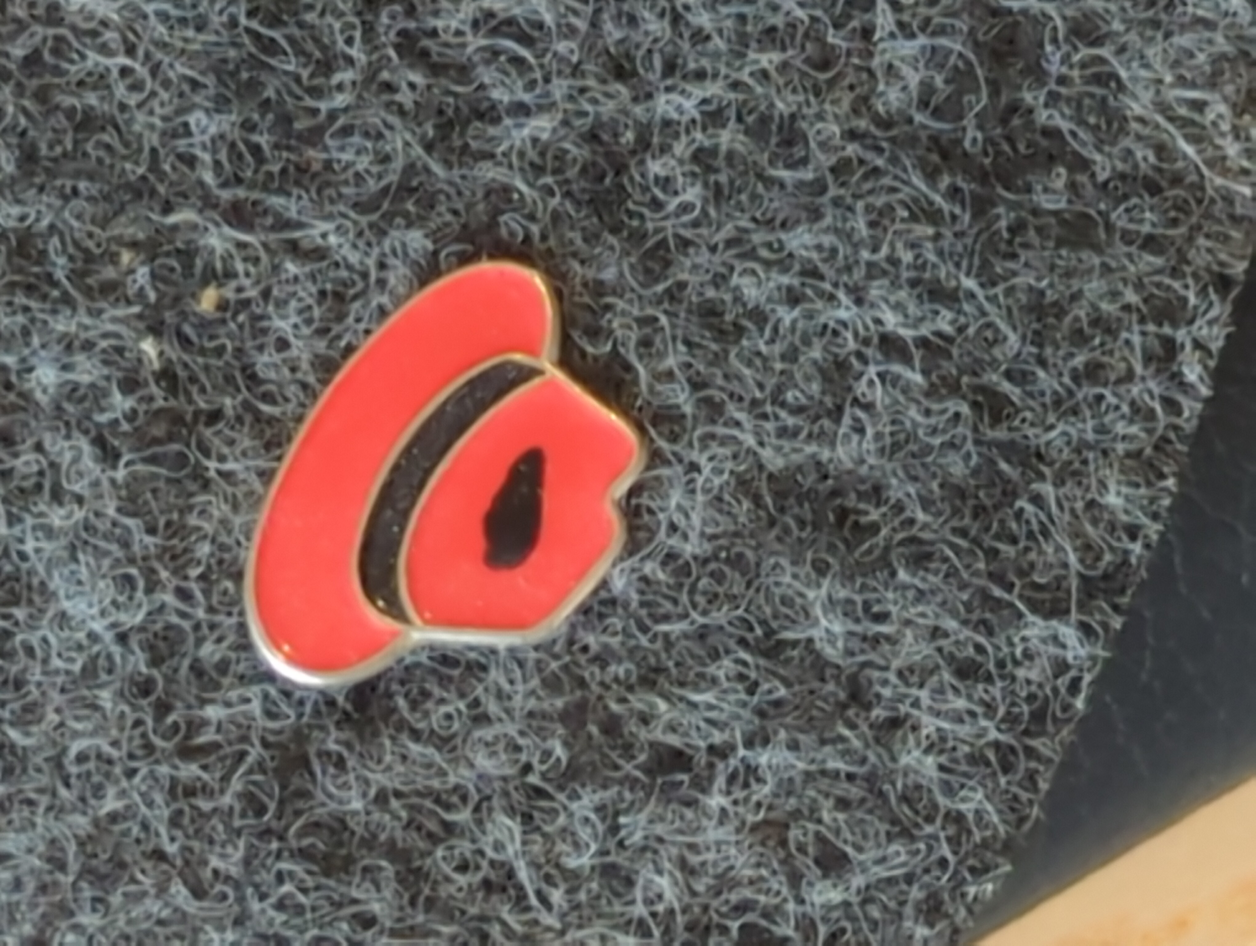Red-Hat: (166, 161, 772, 787)
Scratch: (434, 396, 594, 606)
